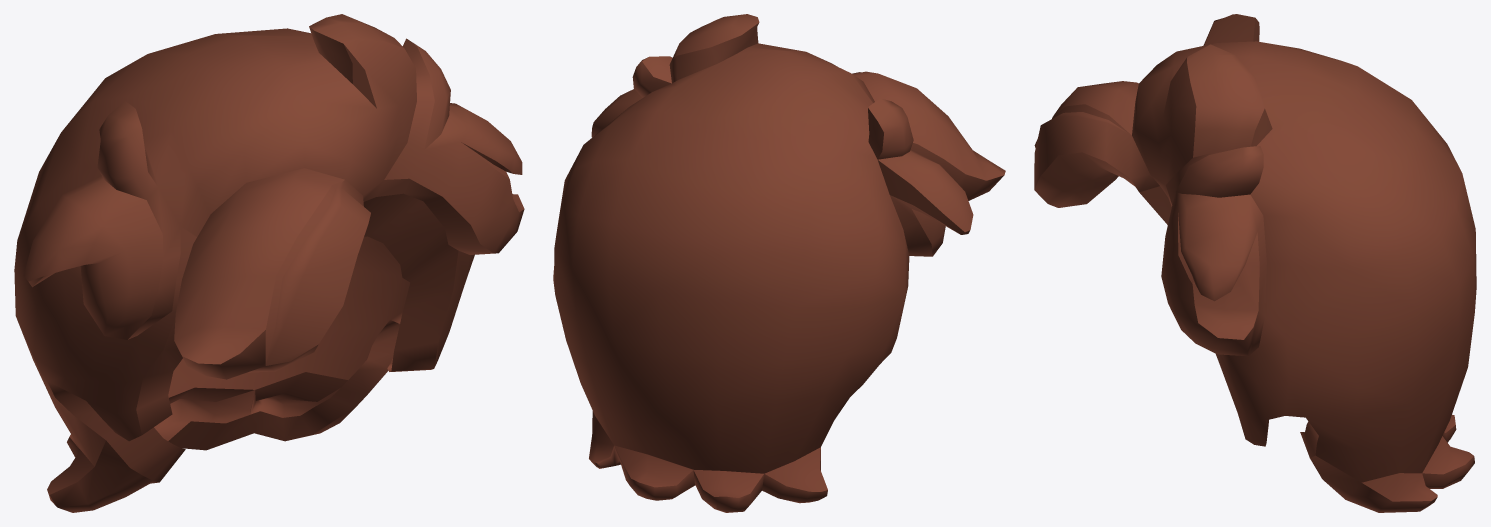
The model's file is Racer_Head_05_Hair.fbx.
The picture shows the model from 3 angles, left to right: view 1: azimuth 30°, elevation 25°; view 2: azimuth 150°, elevation 25°; view 3: azimuth 270°, elevation 25°; orthographic projection. The views are drawn at different scales.
Visible parts, largest first — view 1: Racer_Head_05_Hair; view 2: Racer_Head_05_Hair; view 3: Racer_Head_05_Hair.
Part boxes in pixels (x1,y1,x2,y2): Racer_Head_05_Hair: [14, 14, 524, 512]; Racer_Head_05_Hair: [553, 14, 1005, 512]; Racer_Head_05_Hair: [1034, 14, 1476, 512].
Bounding box in the file's own units: 36.52 × 32.25 × 35.5.
